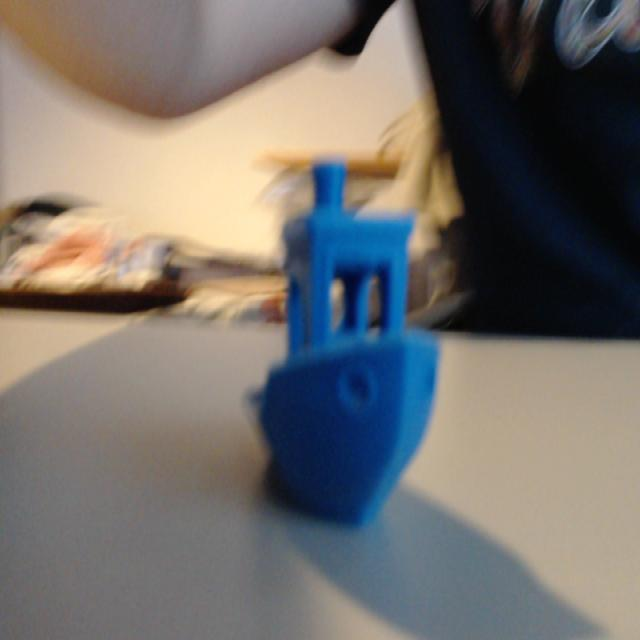benchy: (247, 156, 443, 528)
